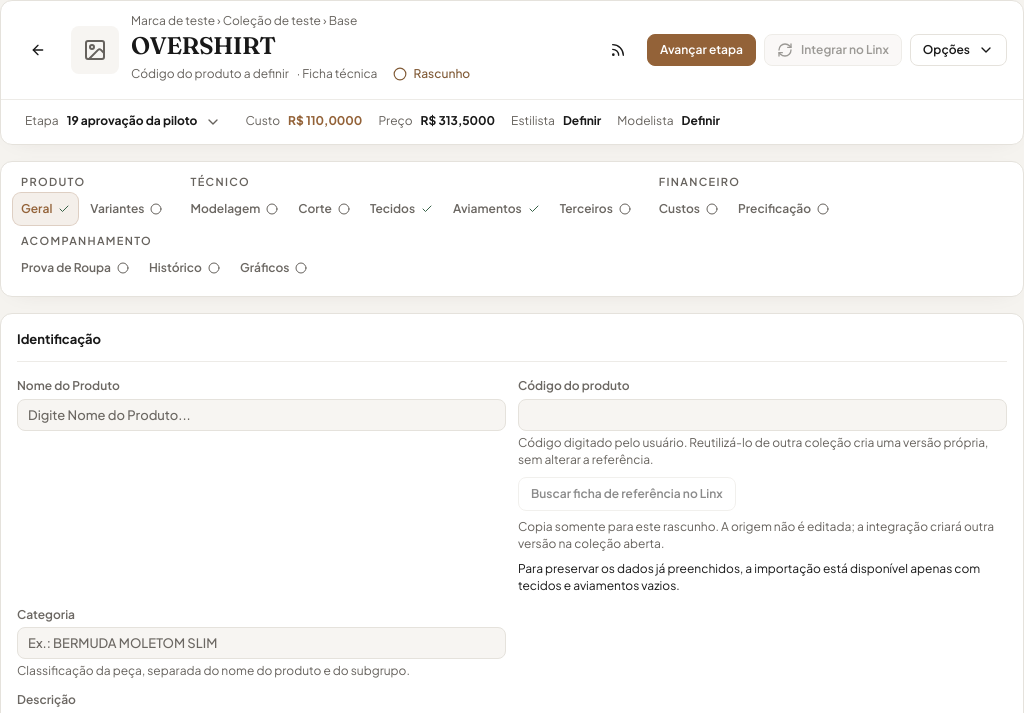
Scenario: Cabeçalho ligado à ficha › avança de 19 para Final e impede reiniciar o fluxo após salvar
What coordinates should you click on to do the following:
click the button "Avançar etapa"
I would click on:
 (702, 50)
Its box is [647,34,756,66].
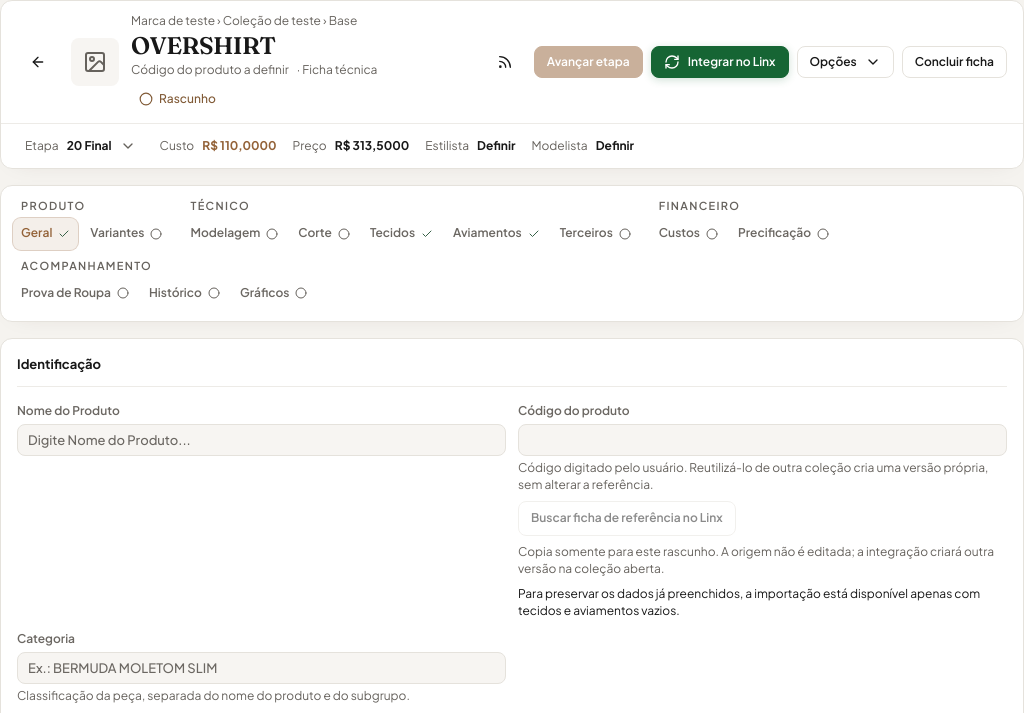
Now the text "20 Final" is shown, box [67,138,112,155]
Now the button "Avançar etapa" is disabled, box [534,46,643,78]
